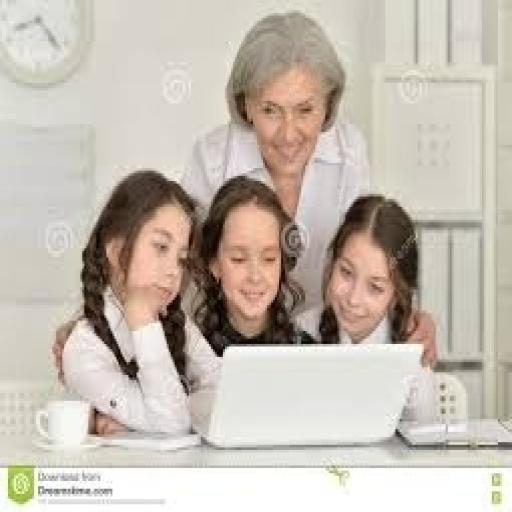using_laptop: (196, 339, 426, 450)
